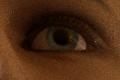eye: (48, 27, 77, 50)
